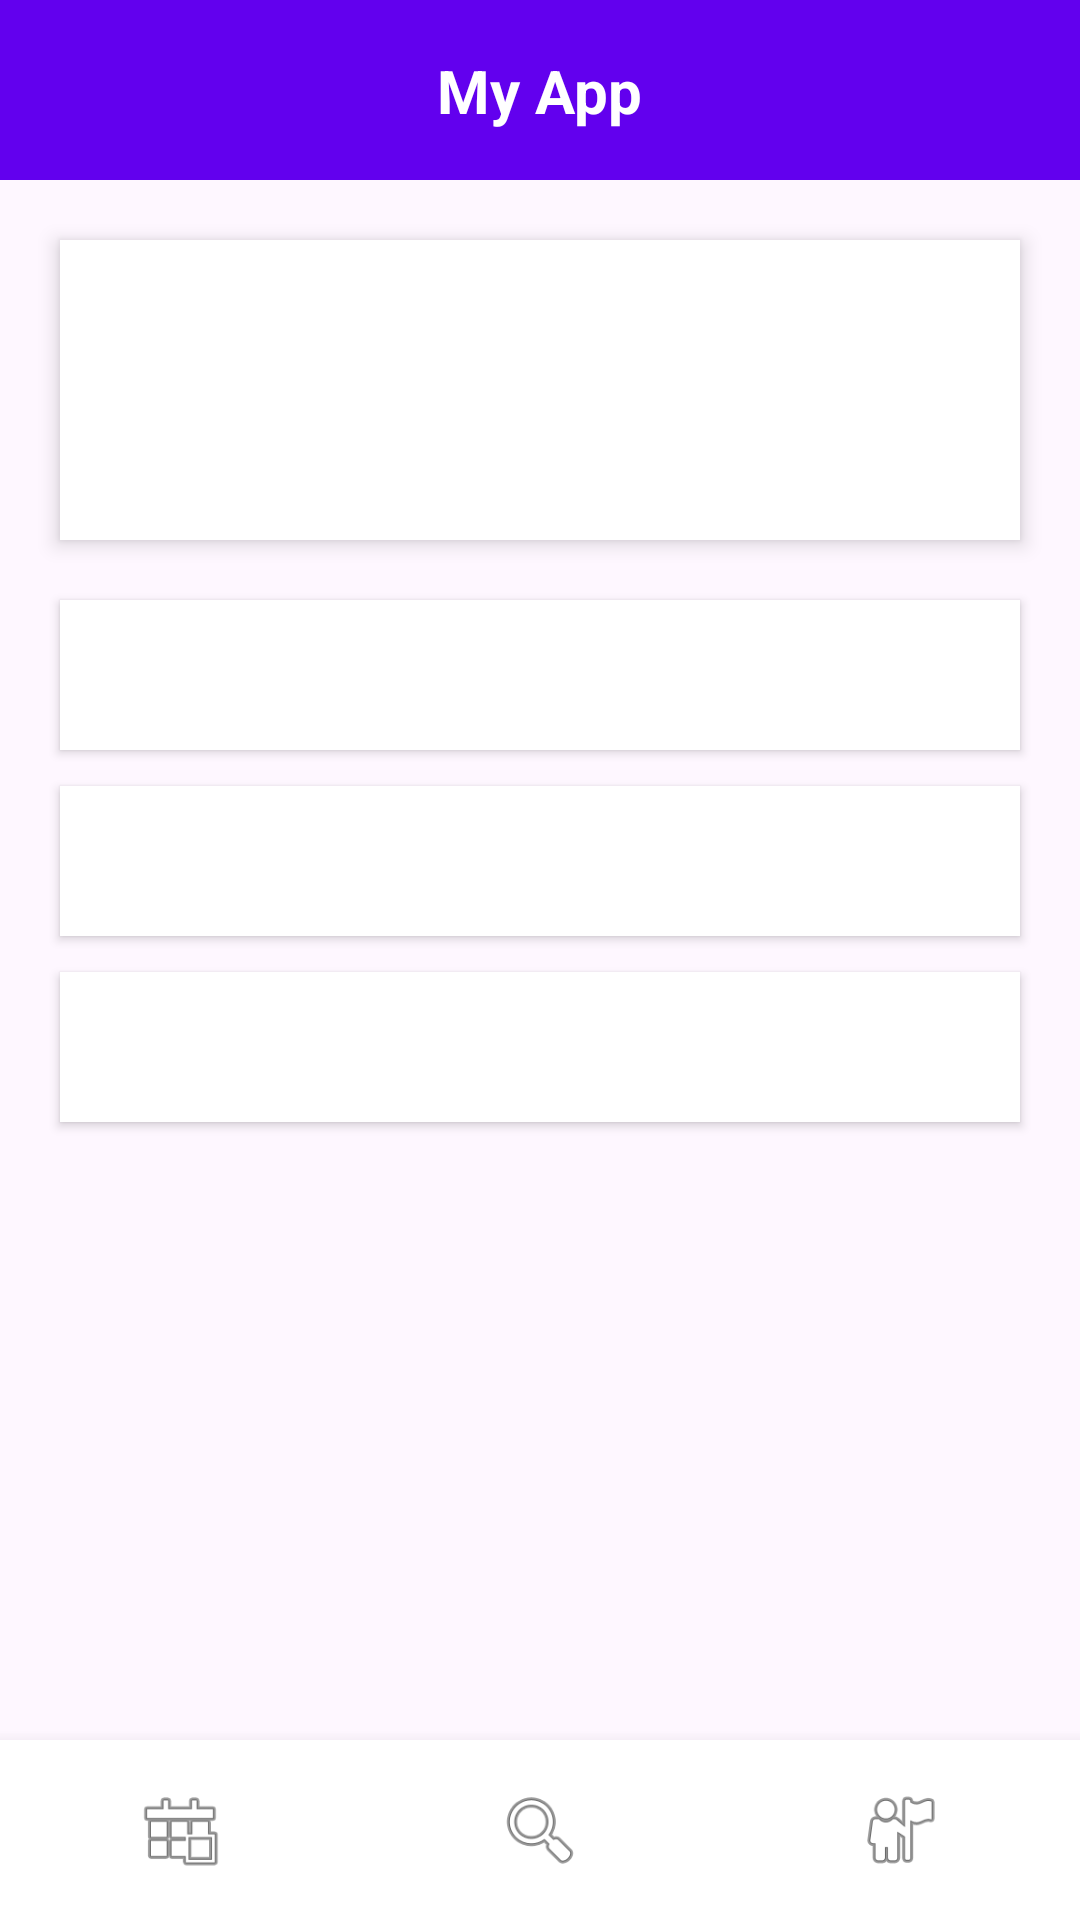

Point at icon controls on the screen. Image size 1080×1920, points as [x,y].
myplaces: [901,1830]
search: [540,1830]
today: [181,1831]
